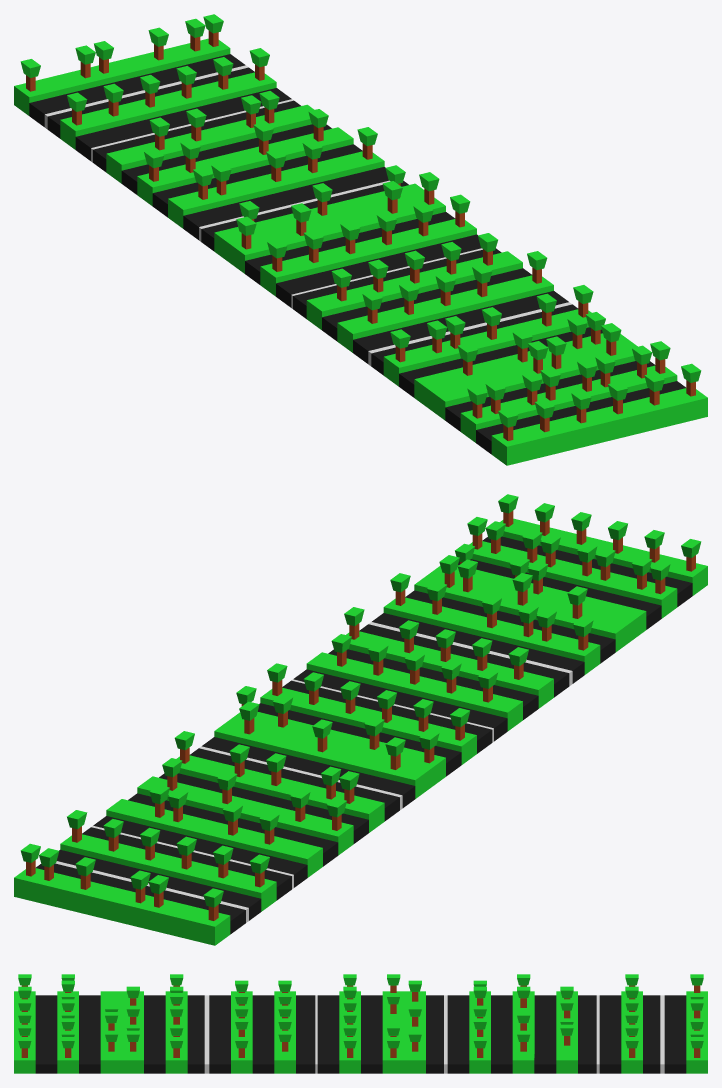
Rendered from GameScene.fbx.
The picture shows the model from 3 angles, top to bottom: view 1: azimuth 30°, elevation 25°; view 2: azimuth 150°, elevation 25°; view 3: azimuth 270°, elevation 25°; orthographic projection. The views are drawn at different scales.
Visible parts, largest first — view 1: Game Scene; view 2: Game Scene; view 3: Game Scene.
Boxes of the visible parts, left/top/right/bottom form: Game Scene: left=14, top=14, right=707, bottom=465; Game Scene: left=14, top=494, right=707, bottom=945; Game Scene: left=14, top=974, right=707, bottom=1073.
Bounding box in the file's own units: 2594 × 554 × 11015.
